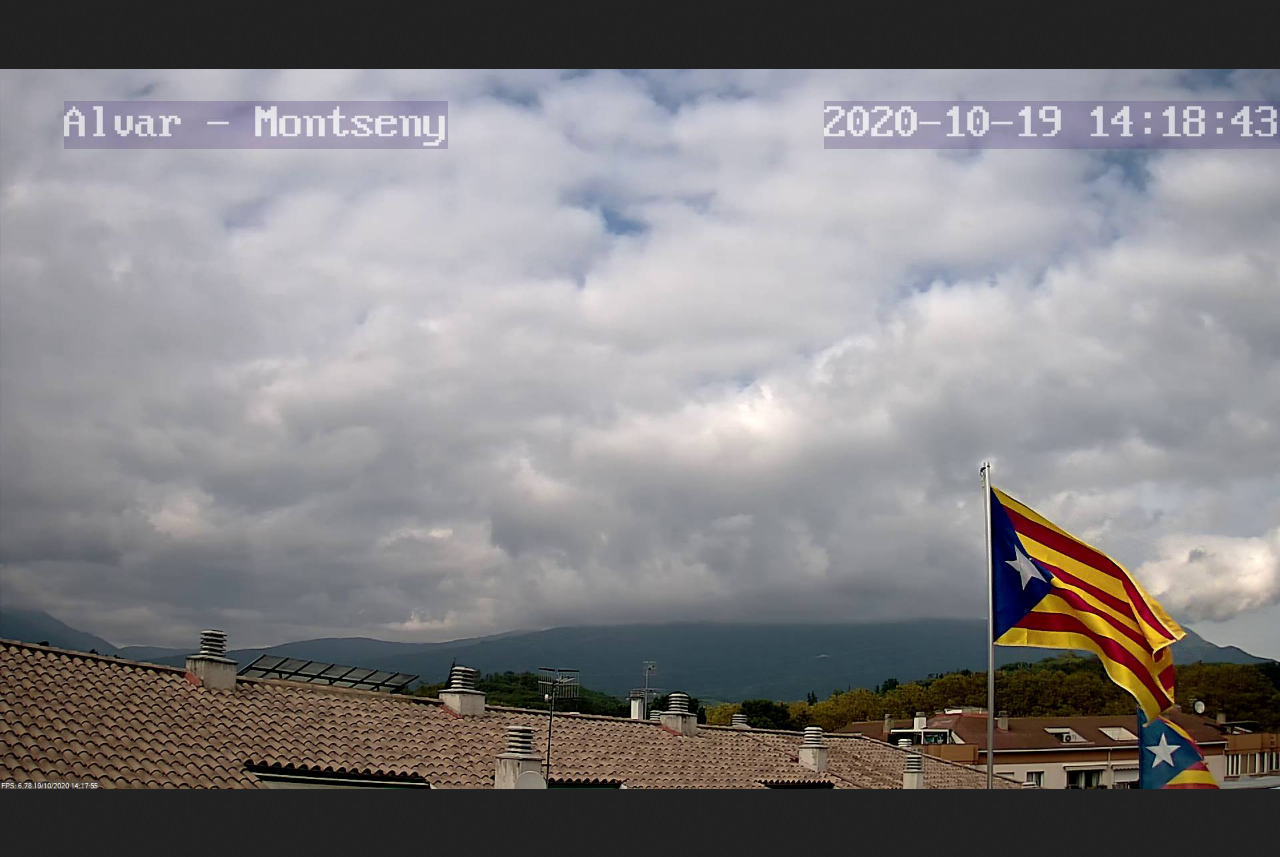maybe: (986, 485, 1187, 725)
